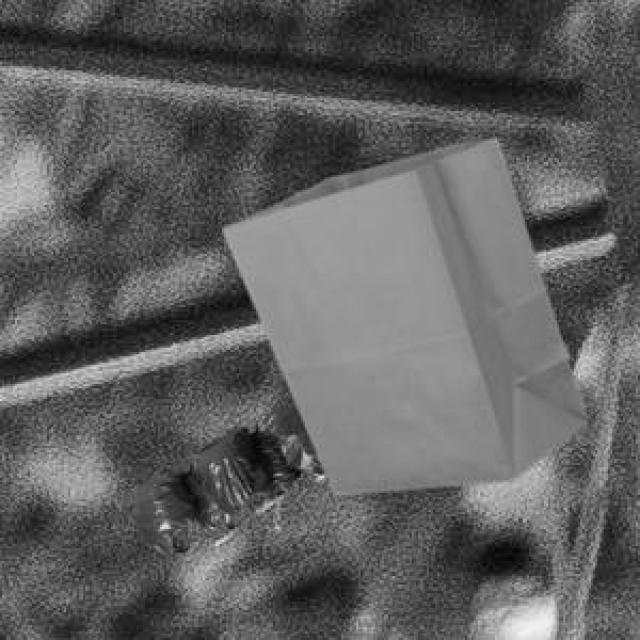miscellaneous trash: (113, 397, 322, 555)
paper: (220, 134, 582, 491)
